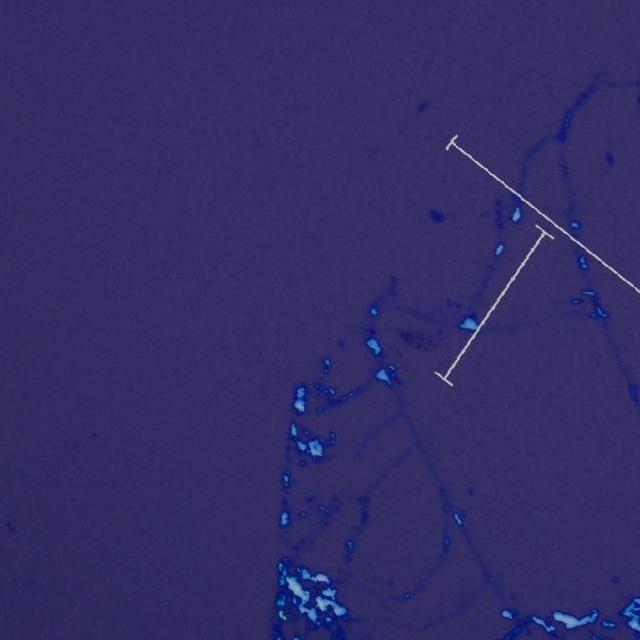monolayer-eWW4: (428, 208, 446, 223)
